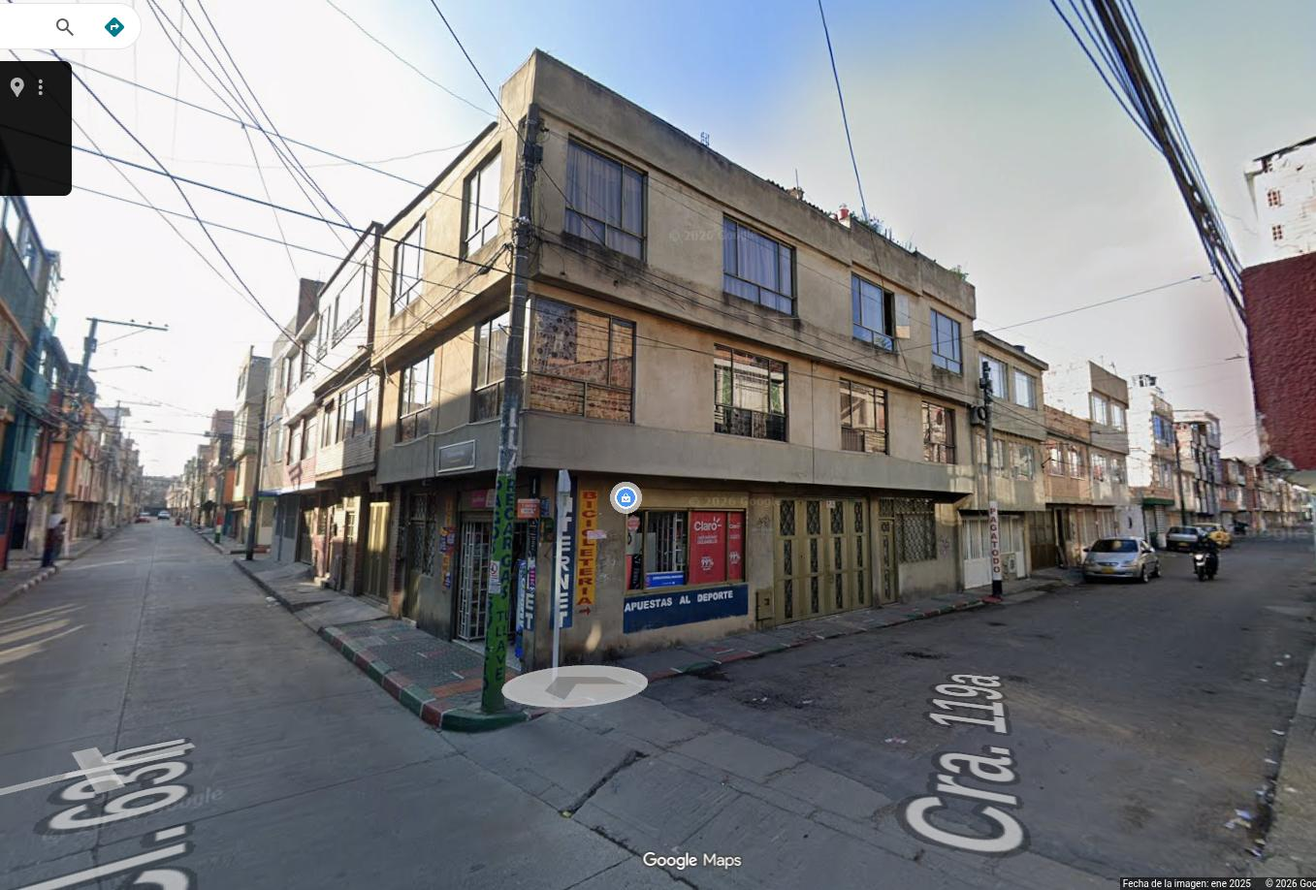casa: (366, 49, 976, 669), (959, 331, 1047, 586)
poste: (480, 103, 541, 715), (48, 317, 168, 530), (44, 544, 63, 565)
